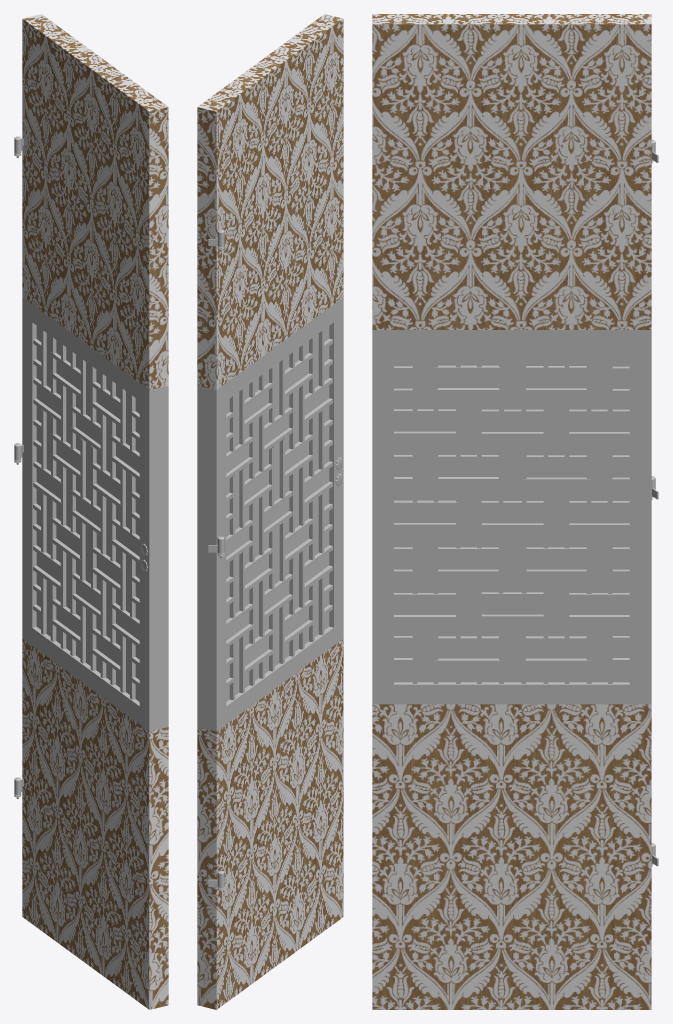
Rendered from SM_Door07E.fbx.
The picture shows the model from 3 angles, left to right: view 1: azimuth 30°, elevation 25°; view 2: azimuth 150°, elevation 25°; view 3: azimuth 270°, elevation 25°; orthographic projection. The views are drawn at different scales.
Visible parts, largest first — view 1: SM_Door07E; view 2: SM_Door07E; view 3: SM_Door07E.
Part boxes in pixels (box(x1,y1,x2,y2)): SM_Door07E: box(14, 14, 168, 1009); SM_Door07E: box(197, 14, 343, 1009); SM_Door07E: box(372, 14, 658, 1009).
Bounding box in the file's own units: 7.49 × 62.84 × 239.
